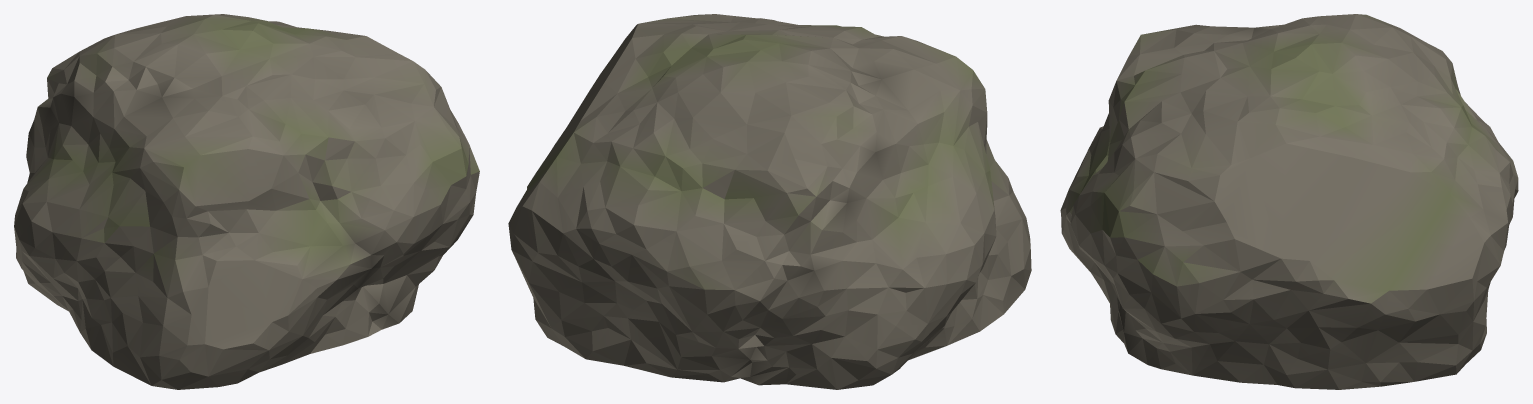
The model's file is stone_E.glb.
3 renders of one model, left to right at view 1: azimuth 30°, elevation 25°; view 2: azimuth 150°, elevation 25°; view 3: azimuth 270°, elevation 25°, orthographic. The views are drawn at different scales.
Visible parts, largest first — view 1: stone_E; view 2: stone_E; view 3: stone_E.
Boxes of the visible parts, x1,y1,x2,y2 form: stone_E: (14,14,479,389); stone_E: (508,14,1031,389); stone_E: (1060,14,1518,389).
Bounding box in the file's own units: 0.3097 × 0.1902 × 0.2994.
